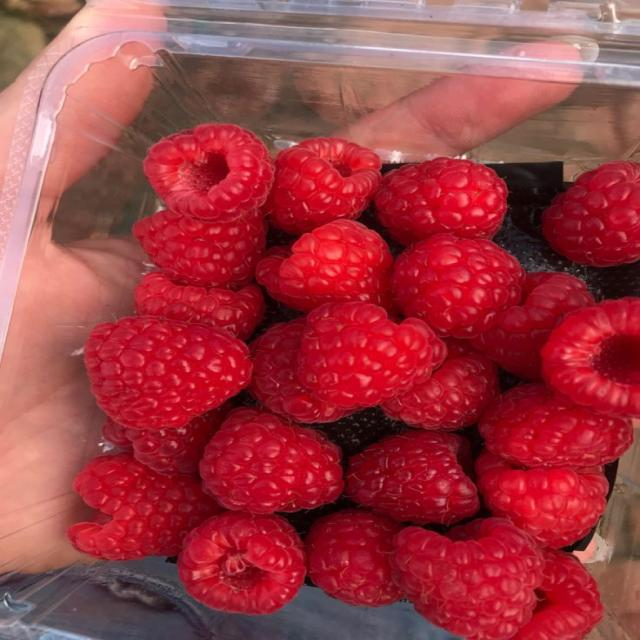raspberry: (85, 316, 251, 429), (392, 519, 543, 639), (68, 453, 219, 559), (200, 409, 343, 513), (298, 303, 434, 408), (393, 235, 525, 337), (179, 512, 305, 614), (473, 273, 594, 379), (480, 384, 633, 467), (144, 124, 274, 221), (476, 452, 608, 547), (256, 220, 393, 311), (347, 431, 479, 523), (542, 298, 639, 416), (375, 158, 506, 245), (266, 138, 381, 234), (248, 318, 351, 423), (134, 210, 266, 287), (543, 162, 639, 266), (306, 509, 402, 606), (134, 273, 264, 339), (382, 356, 499, 429), (102, 408, 225, 474), (514, 550, 603, 639), (314, 408, 408, 460), (255, 247, 299, 309), (101, 419, 132, 450), (443, 338, 482, 358)
